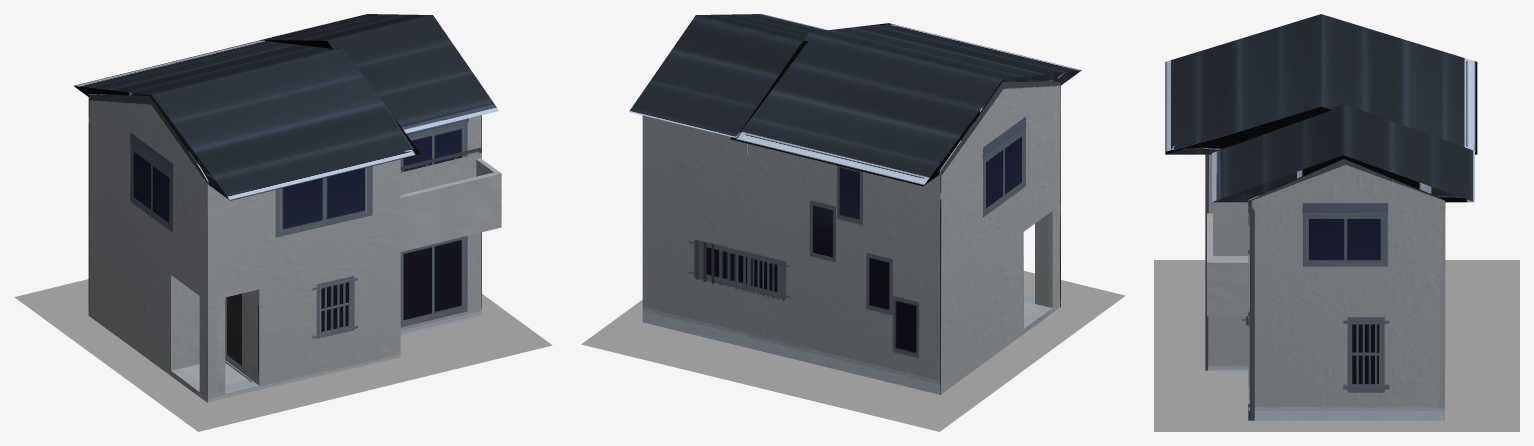
3 renders of one model, left to right at view 1: azimuth 30°, elevation 25°; view 2: azimuth 150°, elevation 25°; view 3: azimuth 270°, elevation 25°, orthographic.
Visible parts, largest first — view 1: polySurface287; view 2: polySurface287; view 3: polySurface287.
Boxes of the visible parts, box(x1,y1,x2,y2) form: polySurface287: box(14, 14, 552, 431); polySurface287: box(581, 14, 1125, 431); polySurface287: box(1154, 14, 1519, 431).
Bounding box in the file's own units: 9.76 × 7.05 × 8.78.
Materials: 8 (6 with a texture image).
